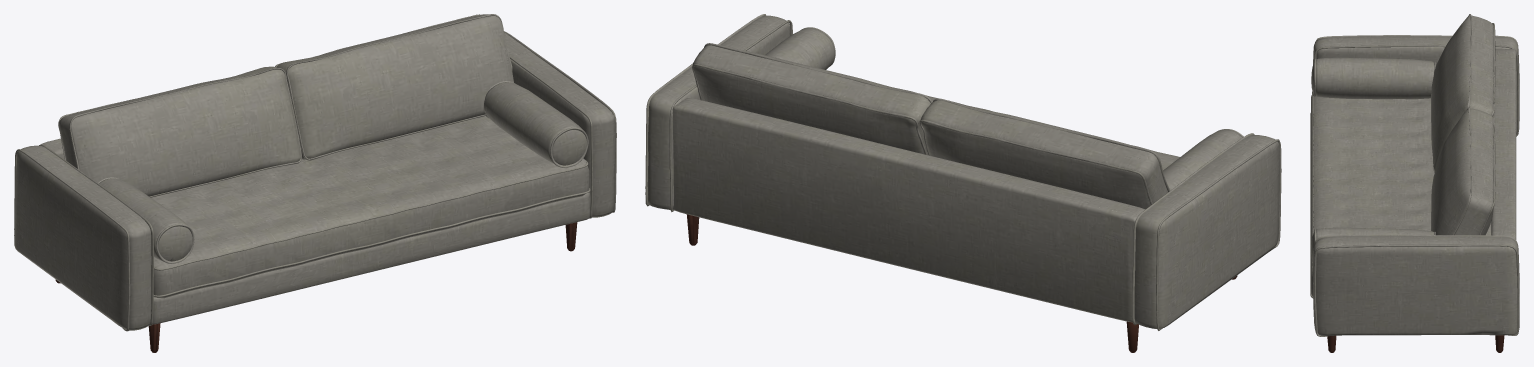
The picture shows the model from 3 angles, left to right: view 1: azimuth 30°, elevation 25°; view 2: azimuth 150°, elevation 25°; view 3: azimuth 270°, elevation 25°; orthographic projection. The views are drawn at different scales.
Visible parts, largest first — view 1: RootNode; view 2: RootNode; view 3: RootNode.
Boxes of the visible parts, <box> form: RootNode: <box>14,14,616,352</box>; RootNode: <box>645,14,1281,352</box>; RootNode: <box>1310,14,1519,352</box>.
Bounding box in the file's own units: 2.21 × 0.7624 × 0.9144.
1 material, 1 textured.
